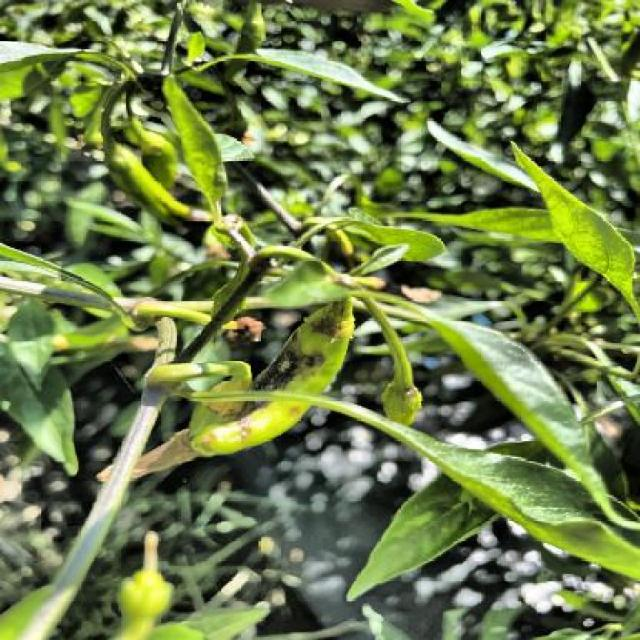Moko: (185, 304, 359, 441), (70, 51, 213, 216), (336, 343, 453, 473)
